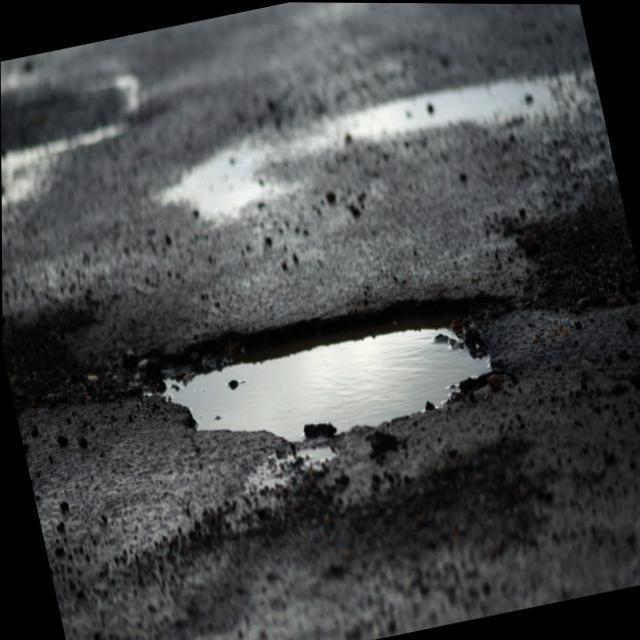Pothole: (126, 296, 509, 446), (521, 191, 639, 322)
